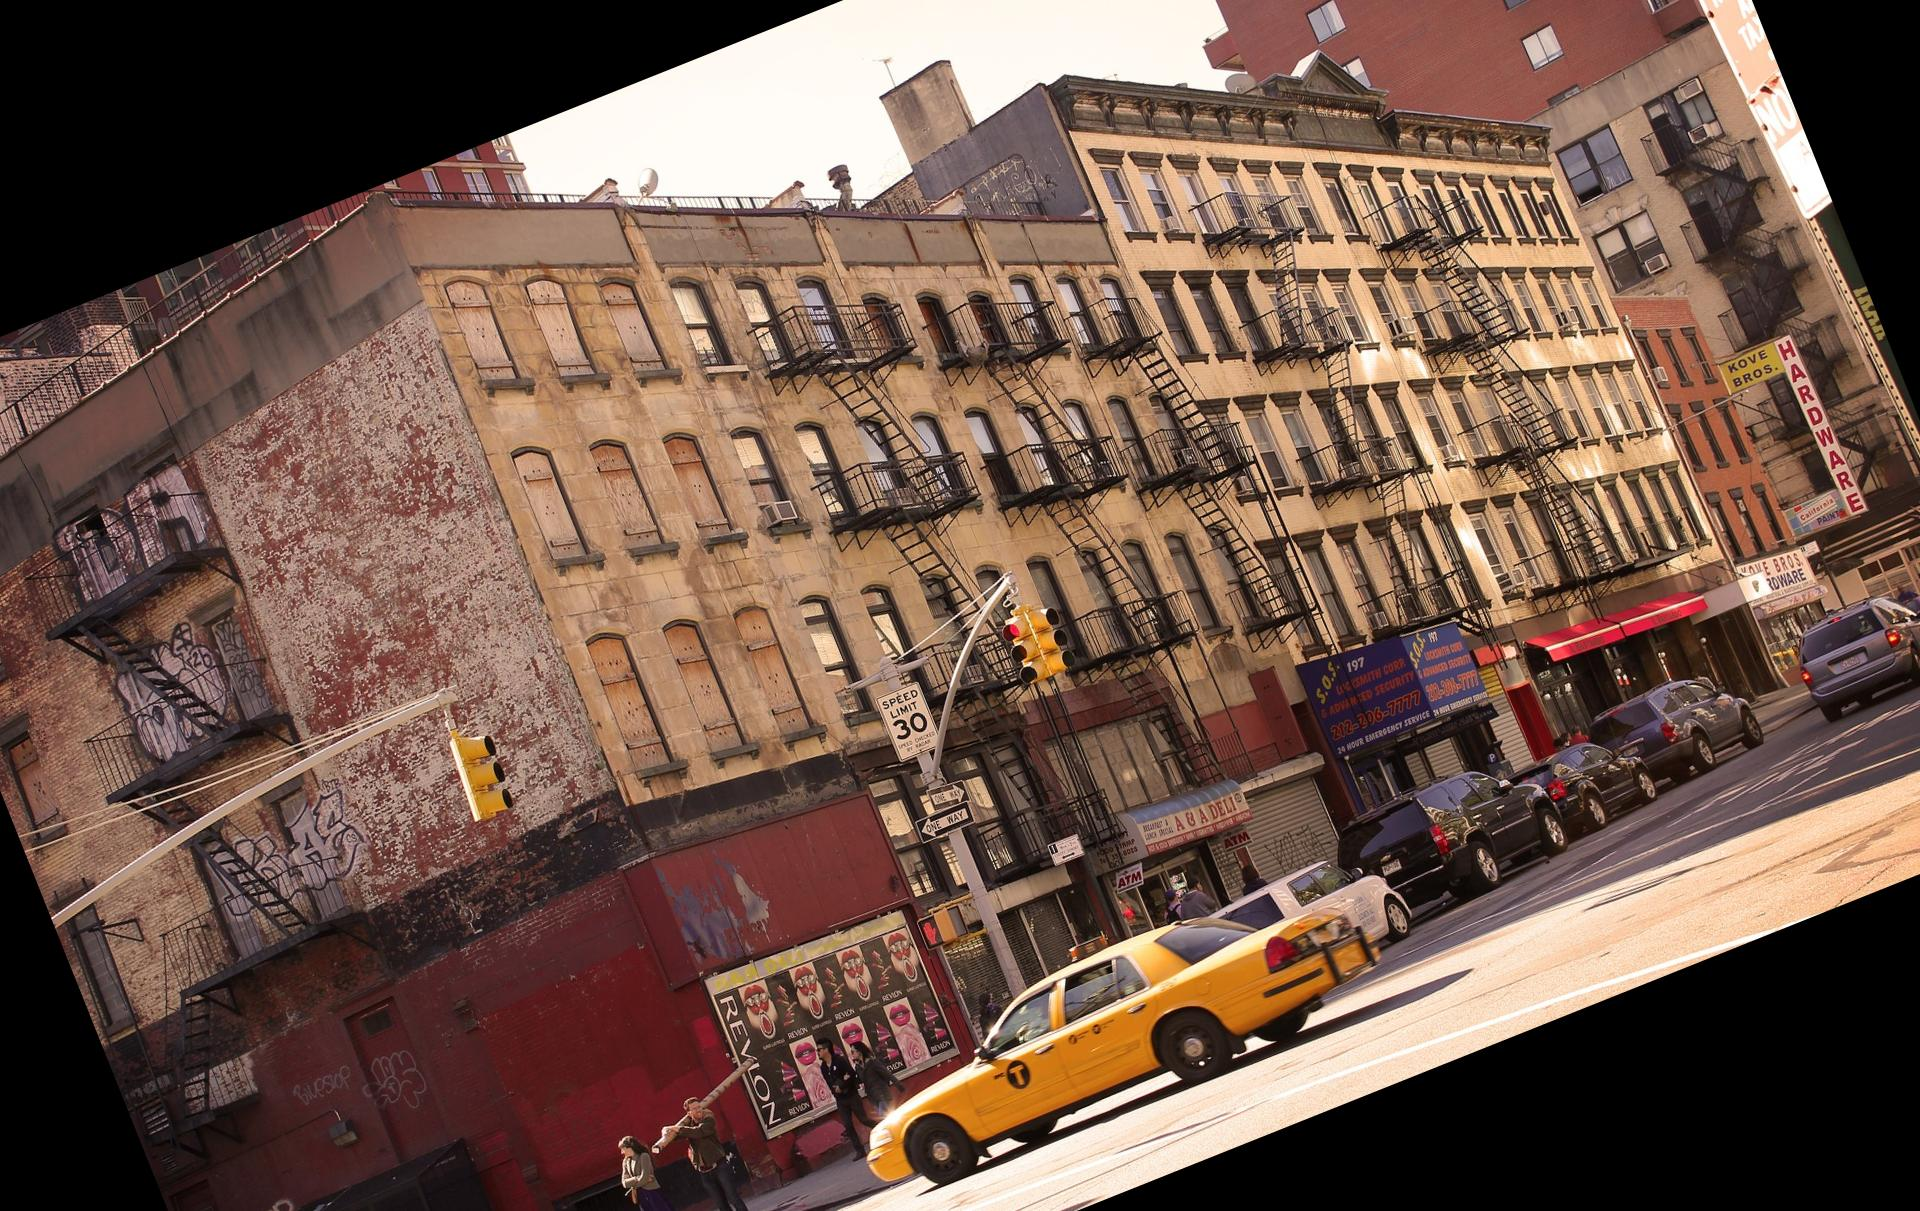taxi: (871, 898, 1360, 1175)
